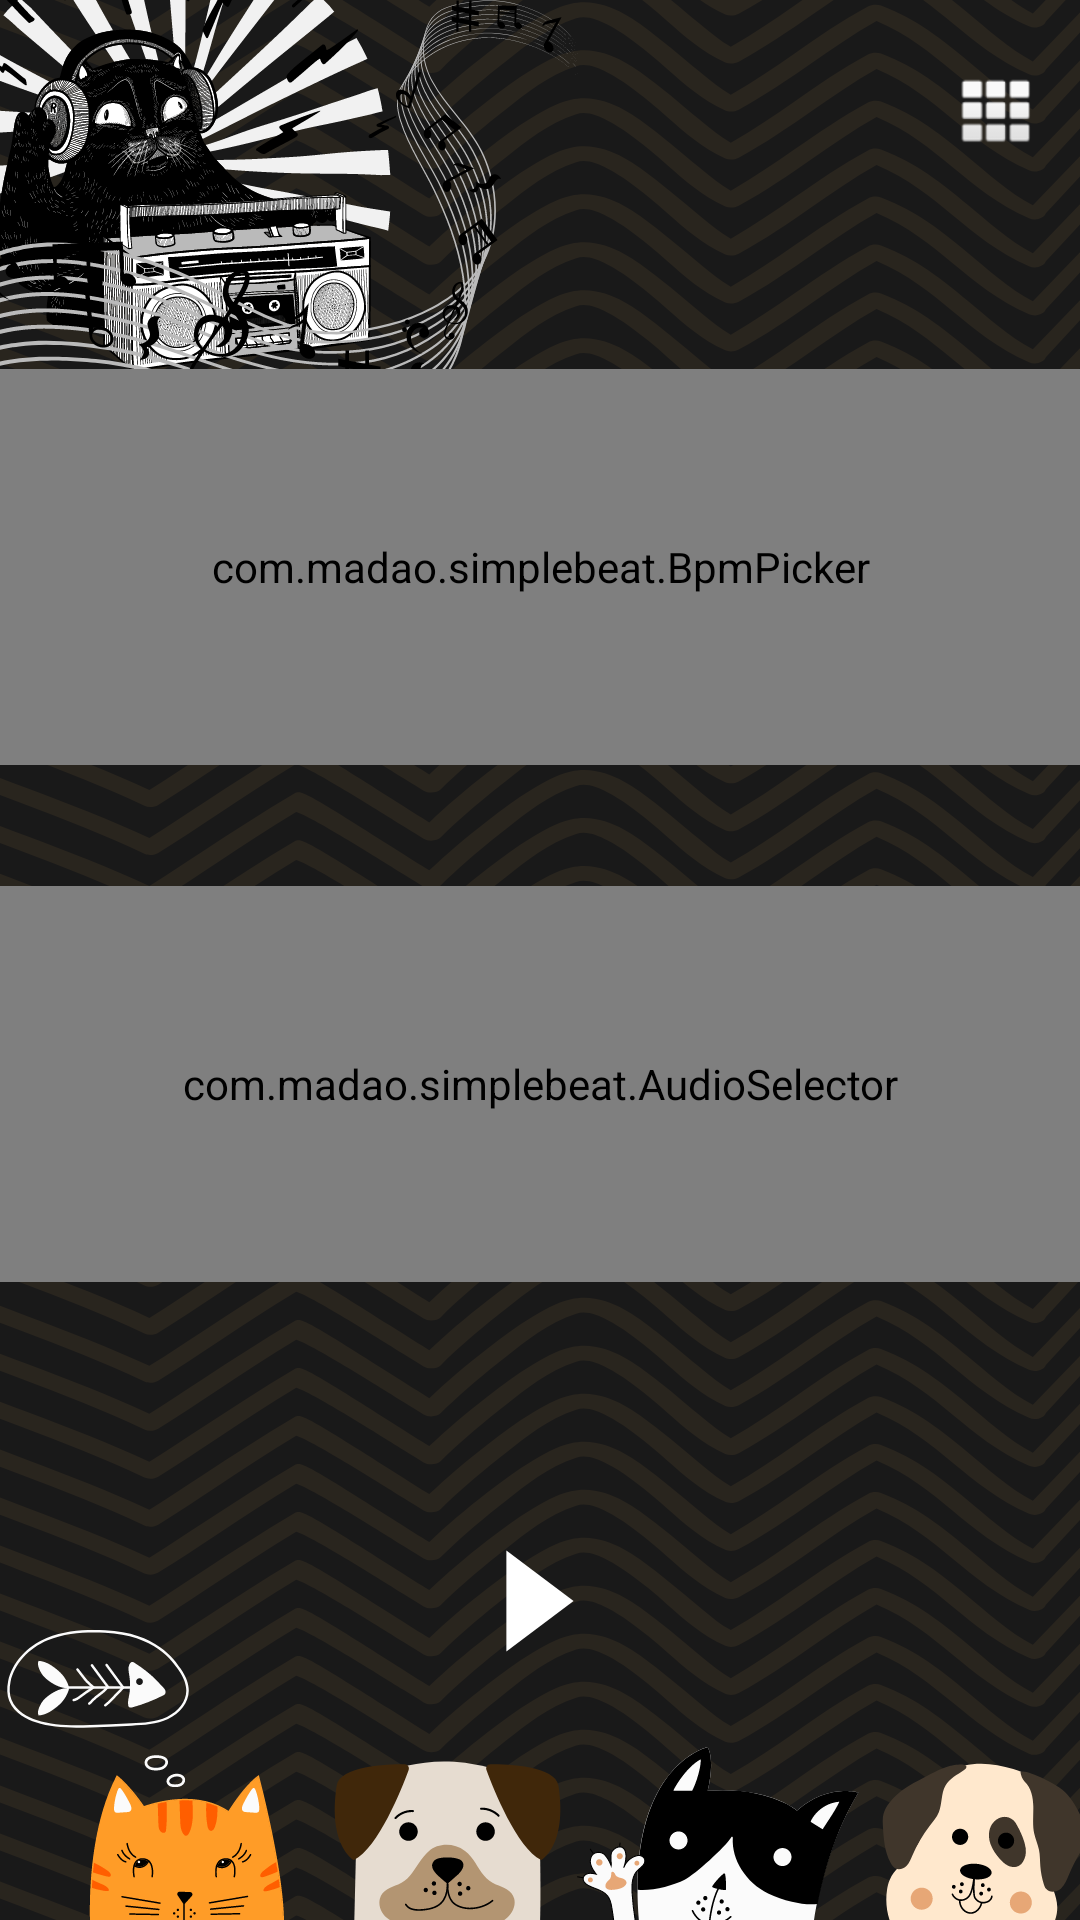

Named icons in this screenshot (1080px x 1920px) and their bounding boxes, [left=x1, top=y1, right=x2, bottom=y2]:
dialer: [left=961, top=79, right=1030, bottom=142]
start: [left=506, top=1550, right=574, bottom=1652]
